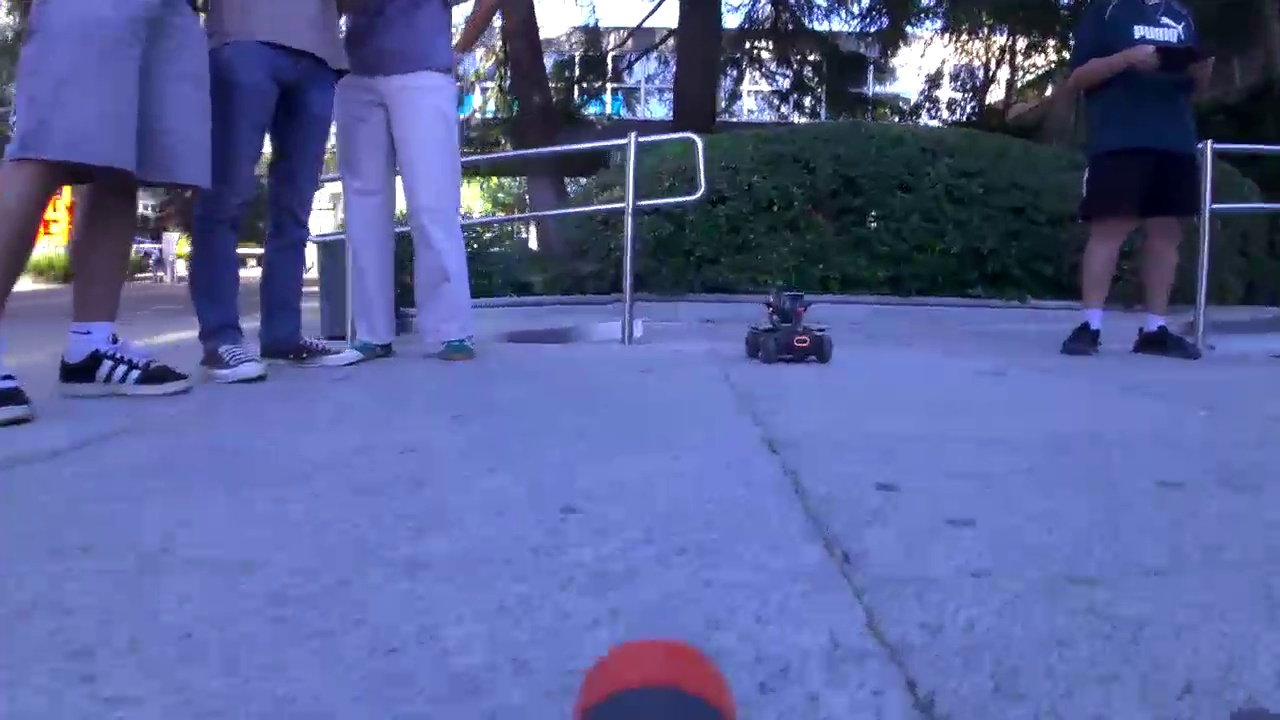robot: (744, 282, 834, 365)
